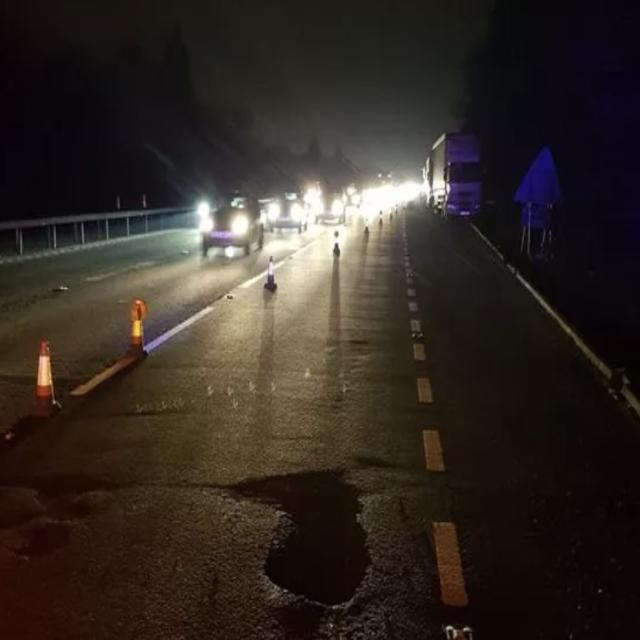Potholes: (241, 456, 380, 628)
